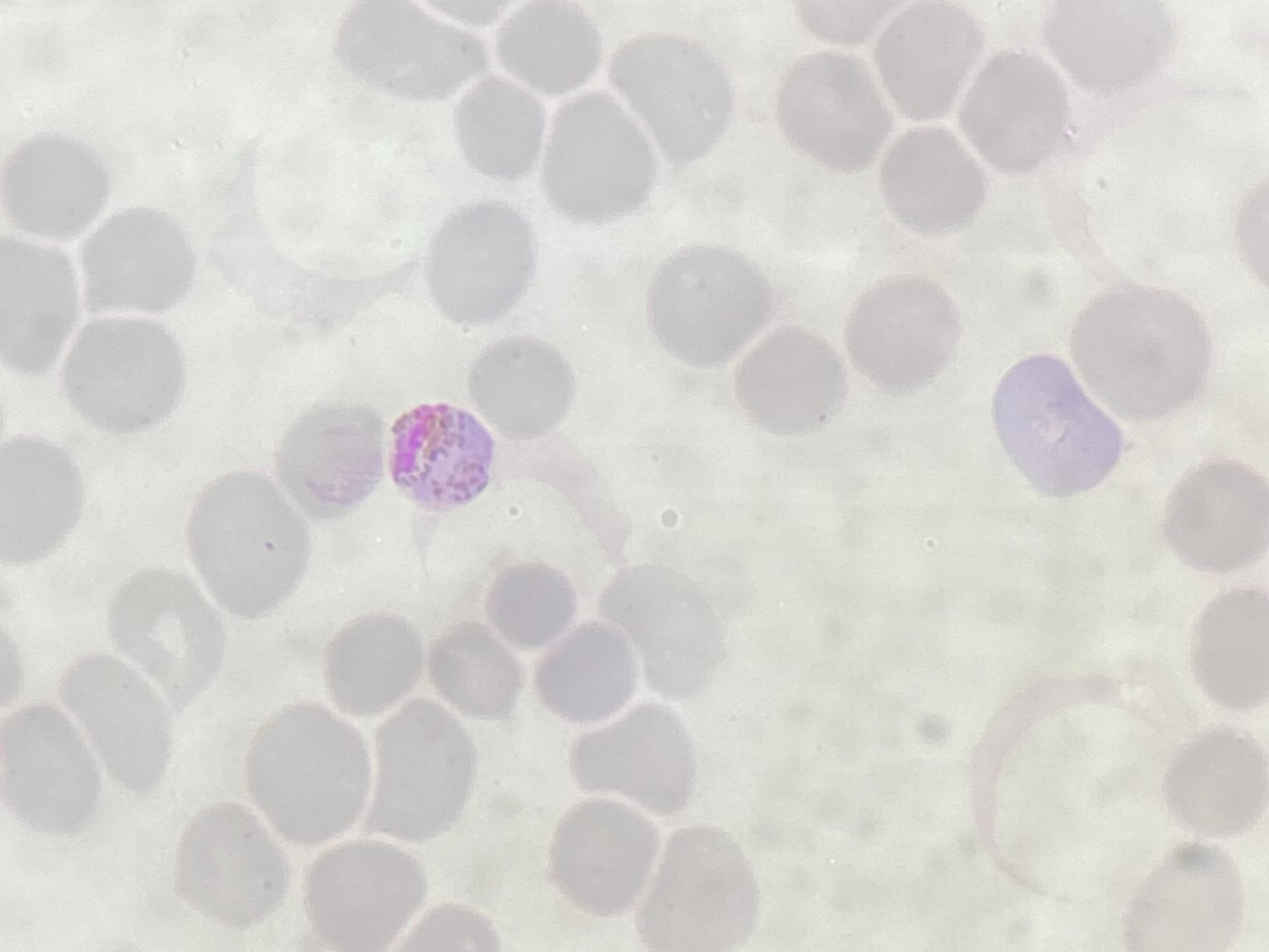Infected: (388, 400, 490, 508)
Uninfected: (990, 349, 1126, 495), (56, 649, 180, 801), (245, 702, 371, 846), (186, 473, 309, 617), (599, 561, 724, 701), (104, 569, 225, 713), (605, 32, 733, 166), (1073, 288, 1207, 415), (360, 697, 477, 842), (634, 826, 759, 952), (646, 244, 770, 366), (171, 801, 288, 930), (564, 701, 693, 816), (297, 836, 426, 950), (336, 0, 483, 99), (536, 96, 650, 221), (841, 274, 961, 391), (775, 52, 892, 172), (869, 3, 986, 121), (545, 797, 660, 916), (424, 200, 535, 323), (1, 701, 101, 837), (78, 205, 197, 318), (66, 316, 182, 429), (958, 54, 1067, 171), (276, 401, 386, 516), (1159, 457, 1269, 571), (733, 325, 847, 434), (874, 125, 985, 236), (0, 228, 85, 372), (1047, 2, 1174, 94), (0, 434, 86, 566), (533, 621, 642, 725), (449, 73, 549, 185), (321, 610, 424, 717), (1166, 731, 1268, 836), (0, 139, 108, 238), (492, 1, 601, 96), (466, 337, 572, 434), (1188, 588, 1269, 707), (481, 557, 579, 652), (428, 622, 520, 717)
